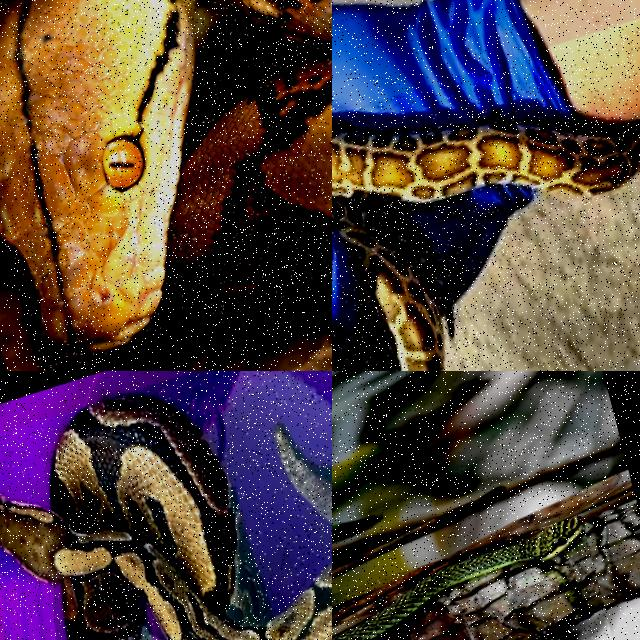Chrysopelea ornata: (338, 520, 583, 639)
Malayopython reticulatus: (0, 0, 331, 360)
Python bivittatus: (0, 396, 331, 639), (332, 123, 639, 370)
snake: (0, 0, 331, 360), (0, 396, 331, 639), (332, 123, 639, 370), (338, 520, 583, 639)
